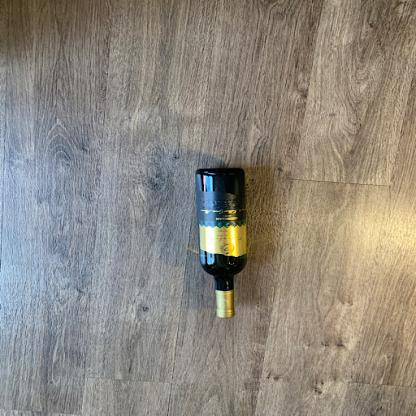trash: (194, 167, 260, 324)
